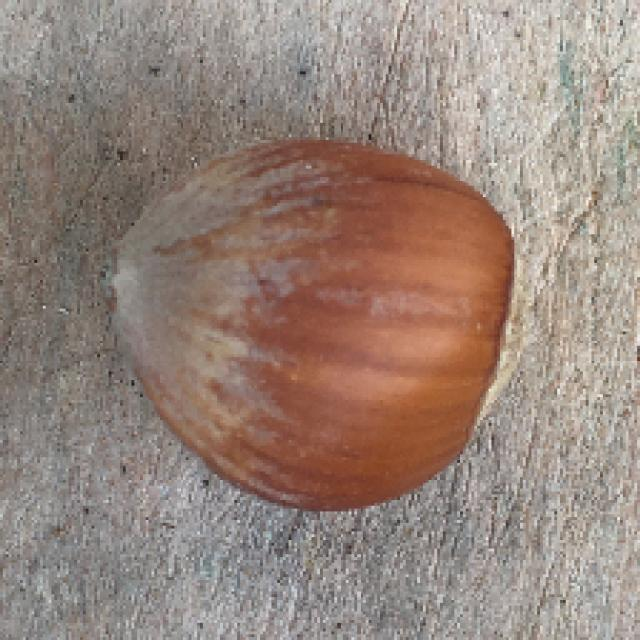qualityHazelnut: (108, 134, 530, 505)
